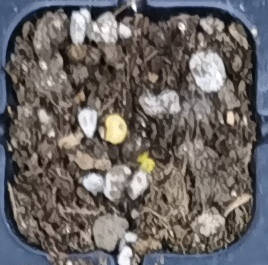pepper seed: (55, 61, 213, 235), (39, 40, 168, 185)
